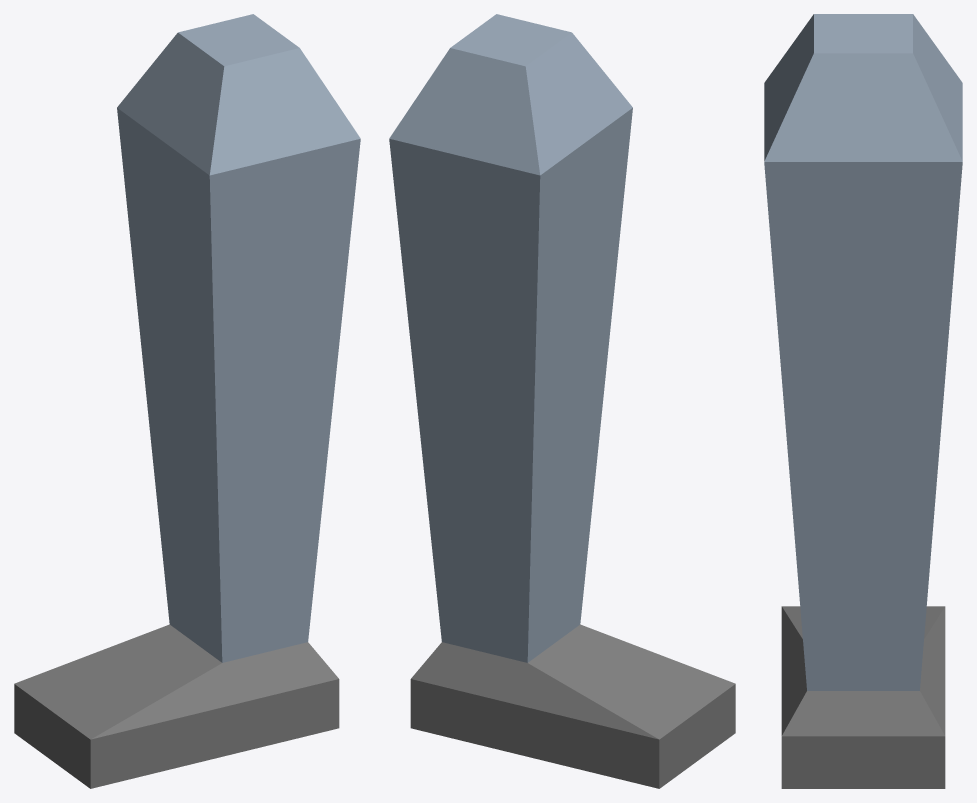
The model's file is TeslaMutant-LowerLeg.fbx.
The picture shows the model from 3 angles, left to right: view 1: azimuth 30°, elevation 25°; view 2: azimuth 150°, elevation 25°; view 3: azimuth 270°, elevation 25°; orthographic projection. The views are drawn at different scales.
Parts seen in each view (by area): view 1: TeslaMutant-LowerLeg; view 2: TeslaMutant-LowerLeg; view 3: TeslaMutant-LowerLeg.
Part boxes in pixels (x1,y1,x2,y2): TeslaMutant-LowerLeg: (14,14,360,788); TeslaMutant-LowerLeg: (389,14,735,788); TeslaMutant-LowerLeg: (764,14,962,788).
Bounding box in the file's own units: 0.272 × 0.6698 × 0.1668.
